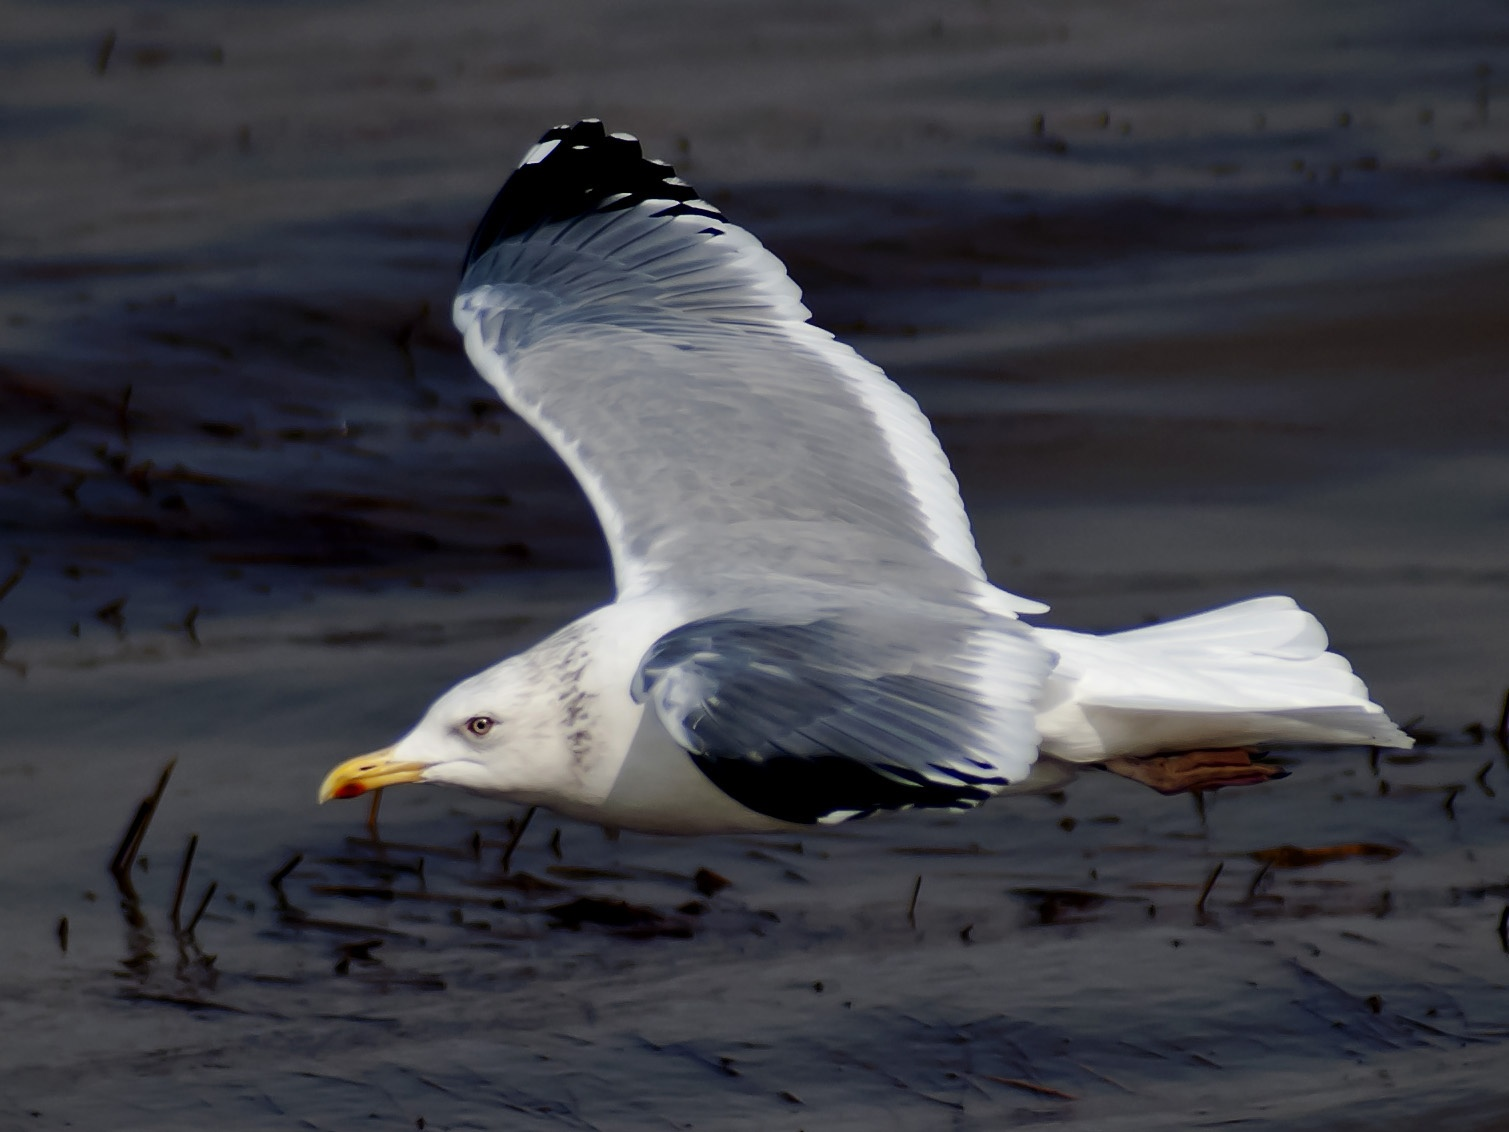bird: (290, 121, 1414, 831)
